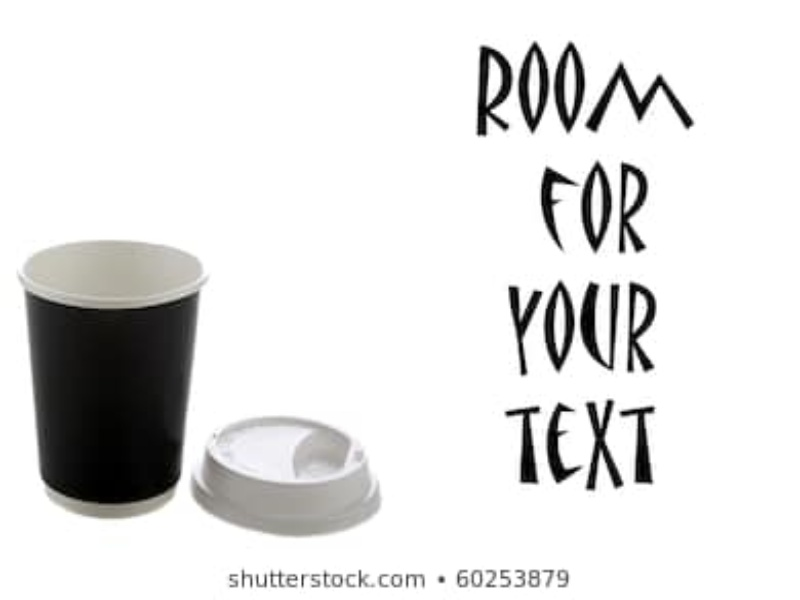coffee-lid: (189, 413, 382, 538)
plastic-cup: (17, 240, 198, 521)
